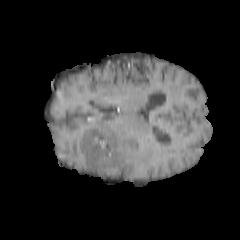glioma: (78, 128, 149, 170)
